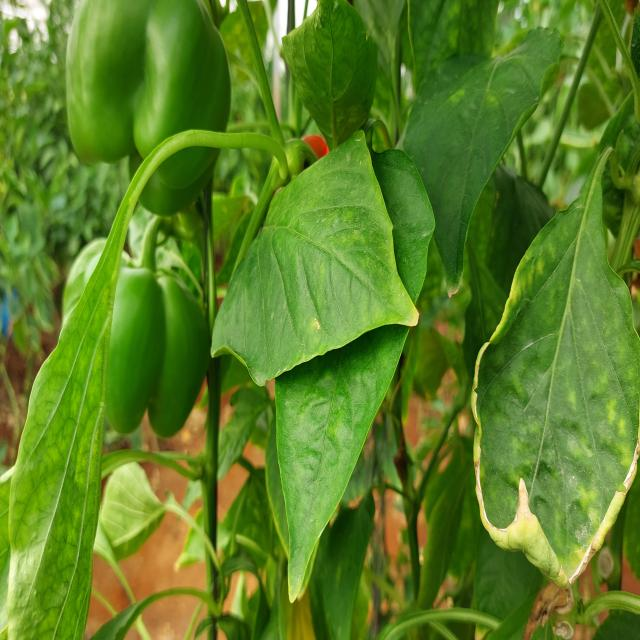Green--Not-ready-to-harvest: (64, 4, 234, 219), (75, 235, 213, 440)
